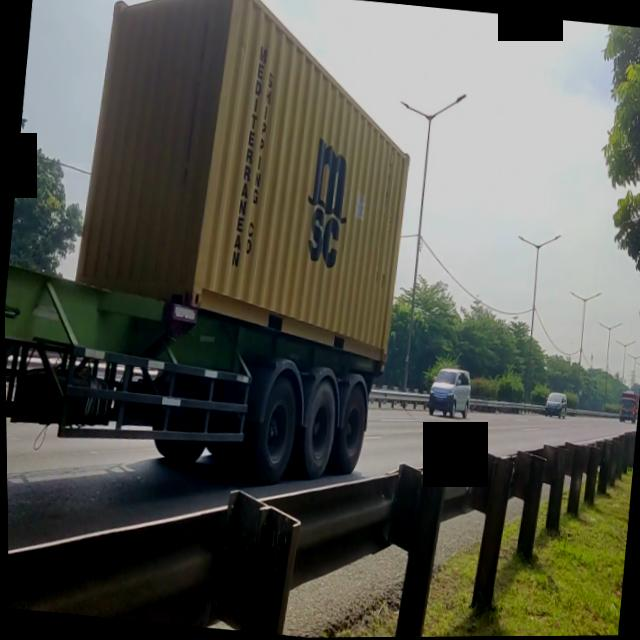Golongan I: (424, 360, 476, 424)
